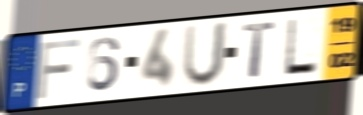4: (138, 25, 177, 94)
6: (86, 36, 122, 94)
F: (35, 36, 83, 101)
L: (282, 17, 320, 77)
T: (241, 20, 277, 80)
U: (180, 20, 231, 90)
